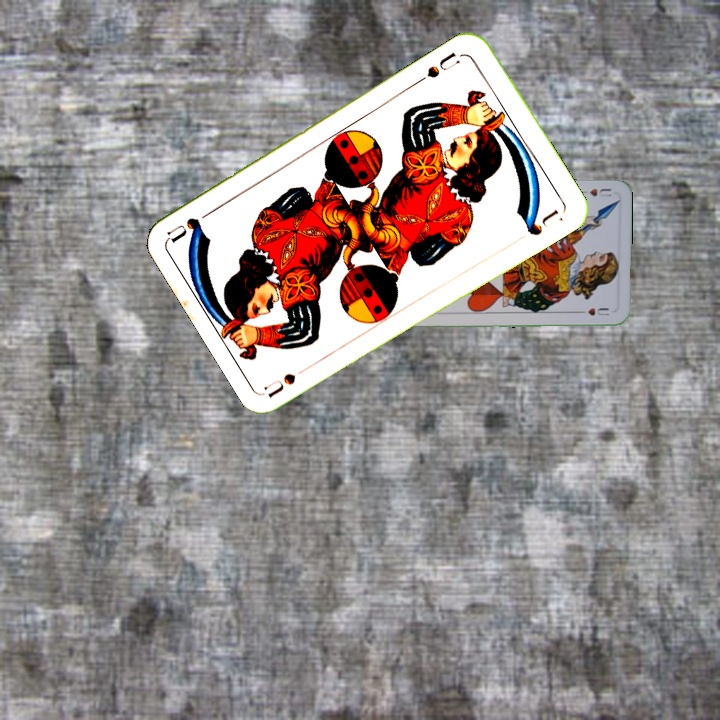HU: (575, 185, 615, 200)
SU: (261, 359, 317, 399), (413, 48, 467, 86)
